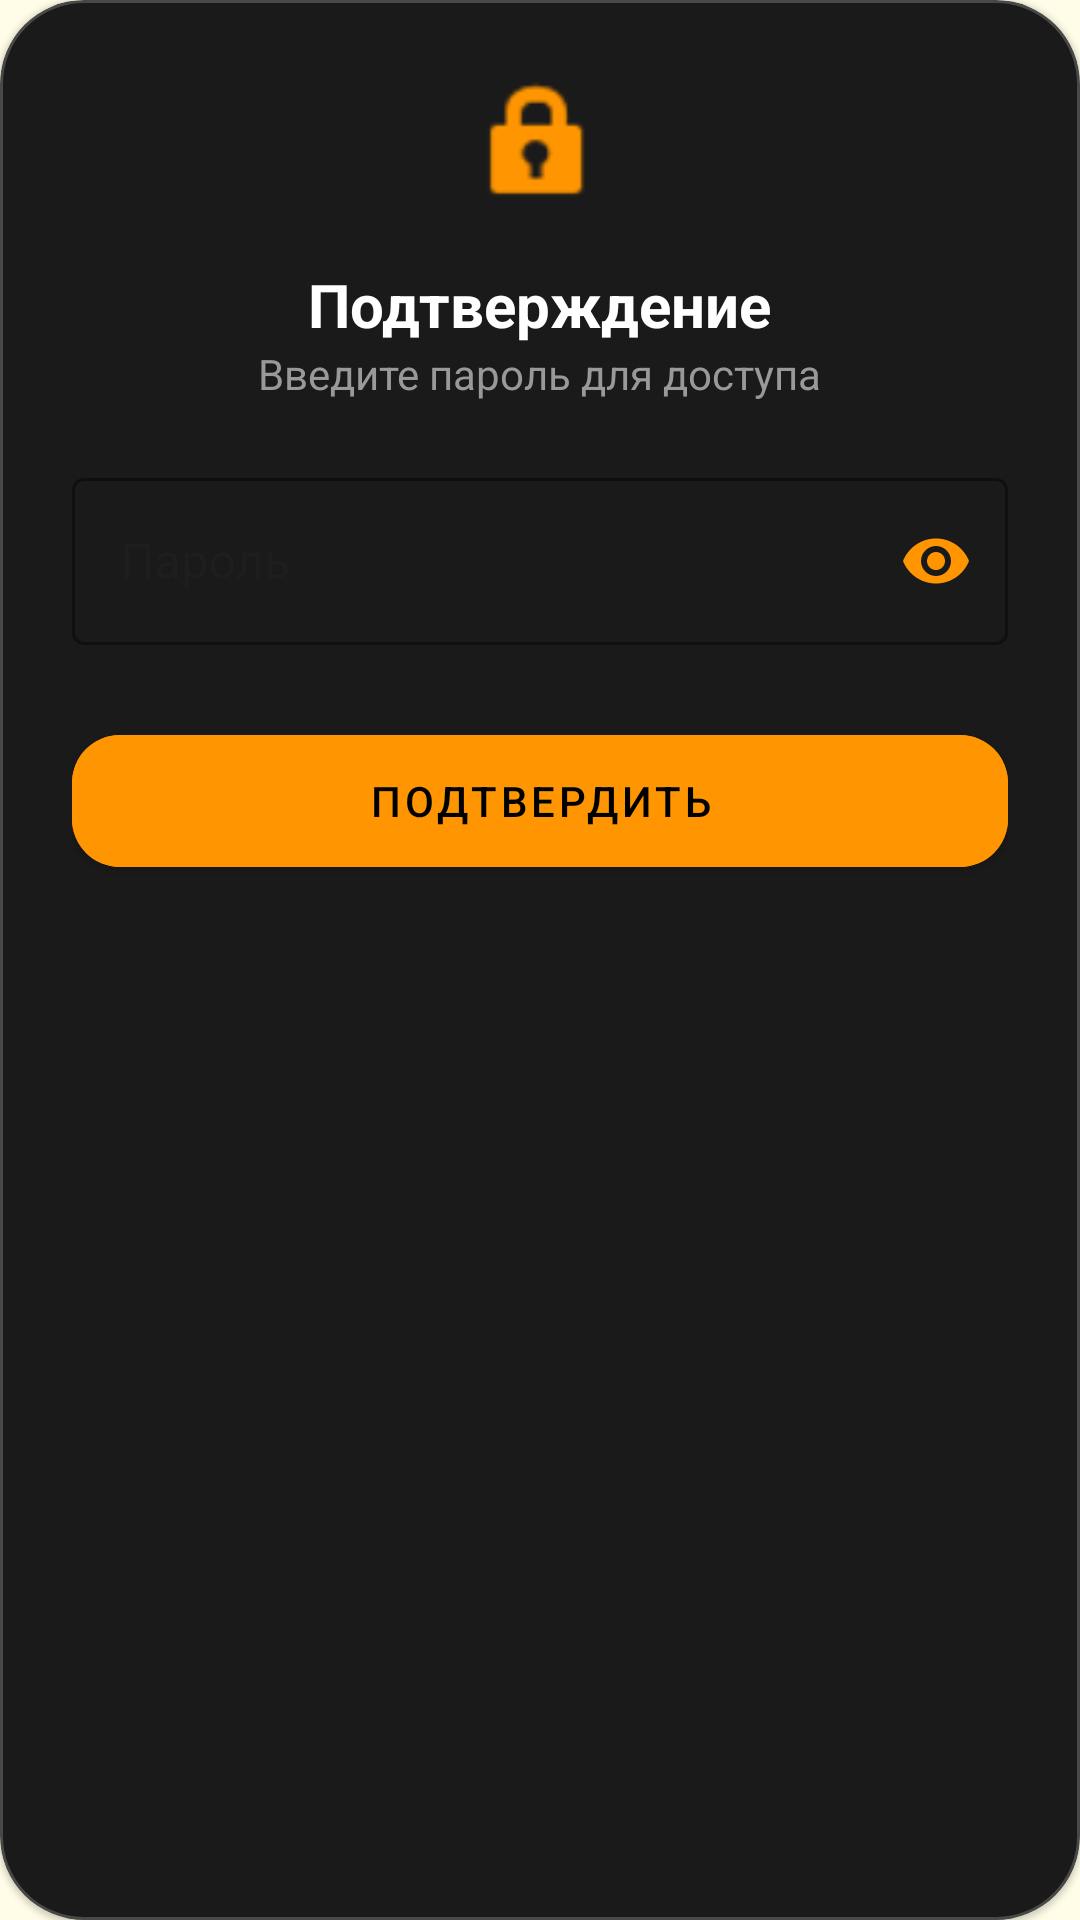

Screen size 1080×1920. Icon name, then its box in pixels as (x1, y1, x2, y2):
lock idle: (489, 84, 584, 195)
